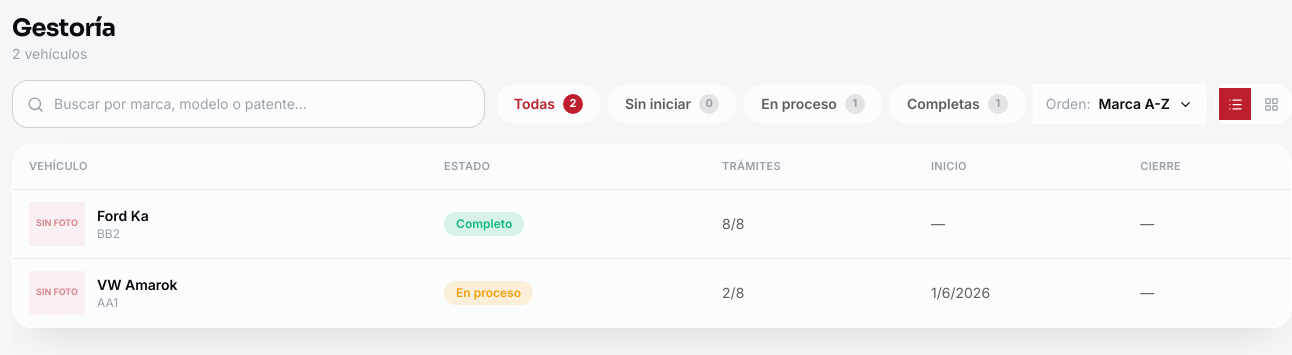
Test: GestoriaListPage › el toggle de vista cambia a tarjetas y sigue mostrando los datos
Expected: the table is shown, [13, 145, 1291, 327]
Click the button named "ver como tarjetas".
click(1271, 104)  # box [1255, 88, 1287, 120]
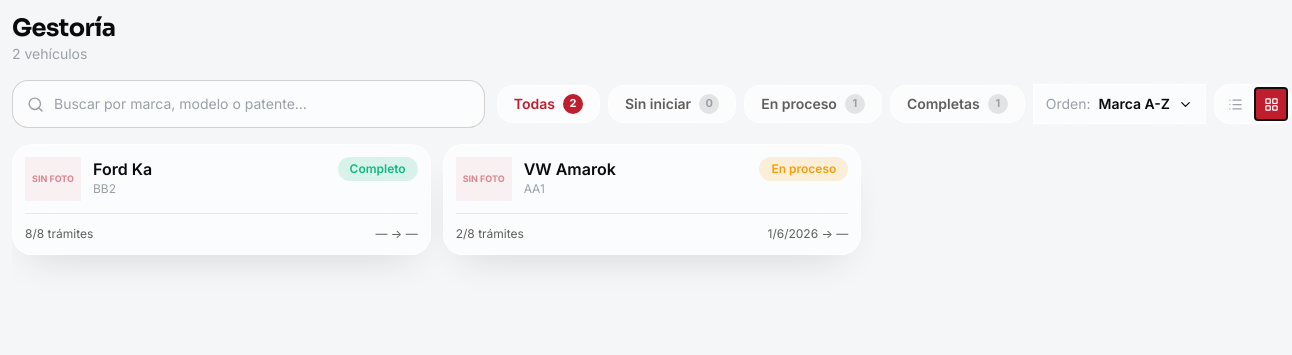
Expected: the text "VW Amarok" is shown, [524, 159, 616, 179]
Now the table is gone
Now the text "2/8 trámites" is shown, box [456, 226, 524, 242]
